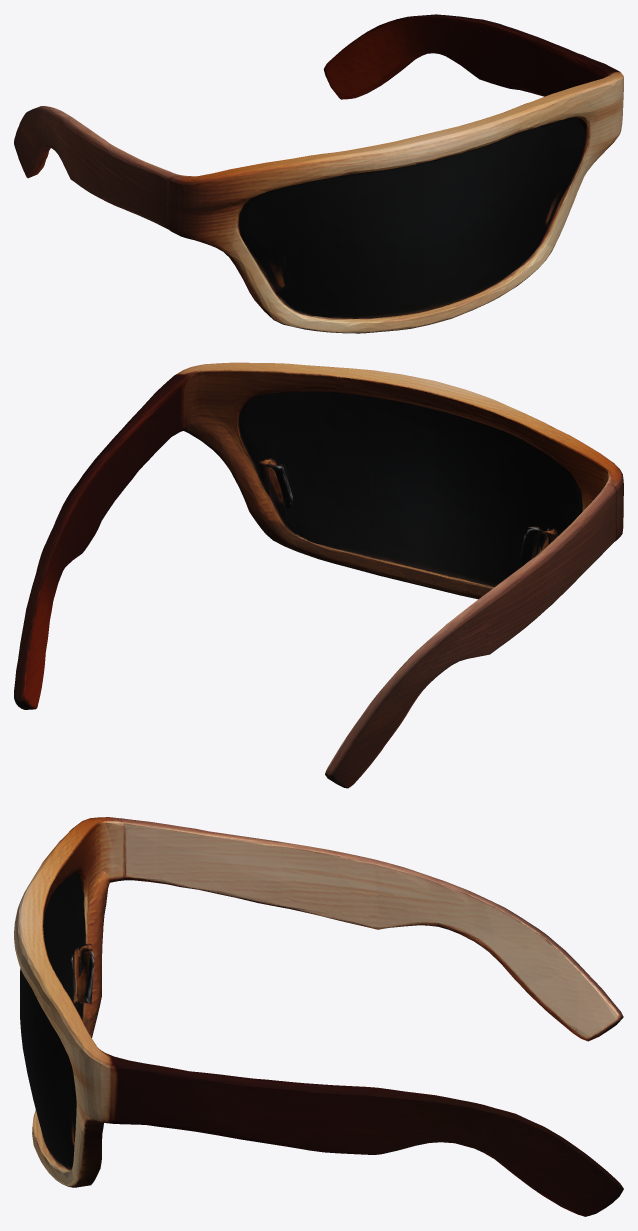
Rendered from wooden-sunglasses-futuristic.jpeg.glb.
3 views of the same model, one above another, from view 1: azimuth 30°, elevation 25°; view 2: azimuth 150°, elevation 25°; view 3: azimuth 270°, elevation 25° (orthographic). The views are drawn at different scales.
Parts seen in each view (by area): view 1: world; view 2: world; view 3: world.
Part boxes in pixels (<box>): world: <box>14,14,623,333</box>; world: <box>14,362,623,788</box>; world: <box>14,817,623,1216</box>.
Bounding box in the file's own units: 0.9663 × 0.3943 × 0.9982.
1 material, 1 textured.
